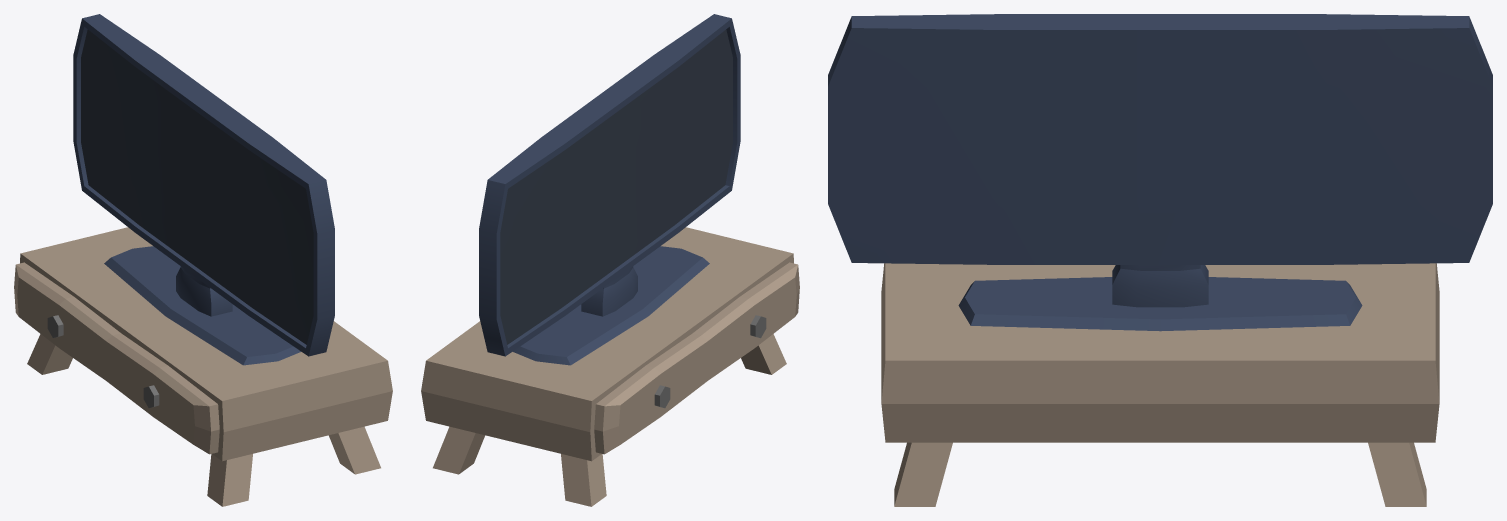
Rendered from TVStand_Mesh.fbx.
3 views of the same model, side by side, from view 1: azimuth 30°, elevation 25°; view 2: azimuth 150°, elevation 25°; view 3: azimuth 270°, elevation 25° (orthographic). The views are drawn at different scales.
Parts seen in each view (by area): view 1: pCube4; view 2: pCube4; view 3: pCube4.
Part boxes in pixels (x1,y1,x2,y2): pCube4: [14, 14, 392, 506]; pCube4: [421, 14, 799, 506]; pCube4: [828, 14, 1492, 506].
Bounding box in the file's own units: 5.43 × 8.67 × 12.09.
